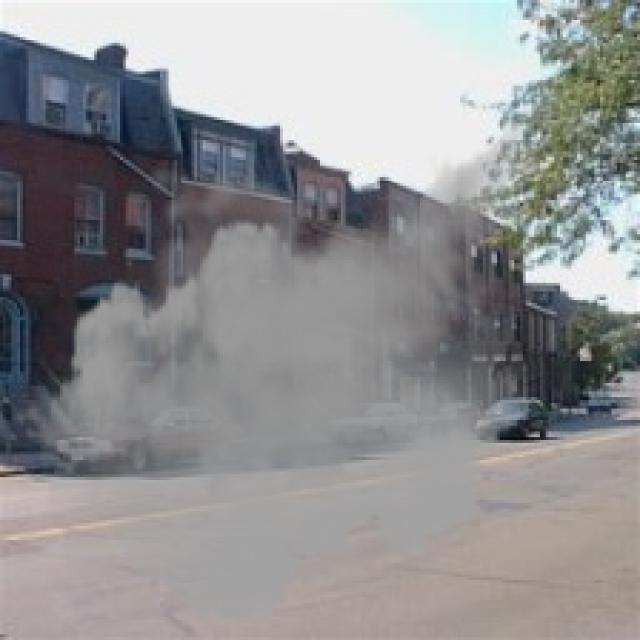Smoke: (11, 77, 546, 637)
